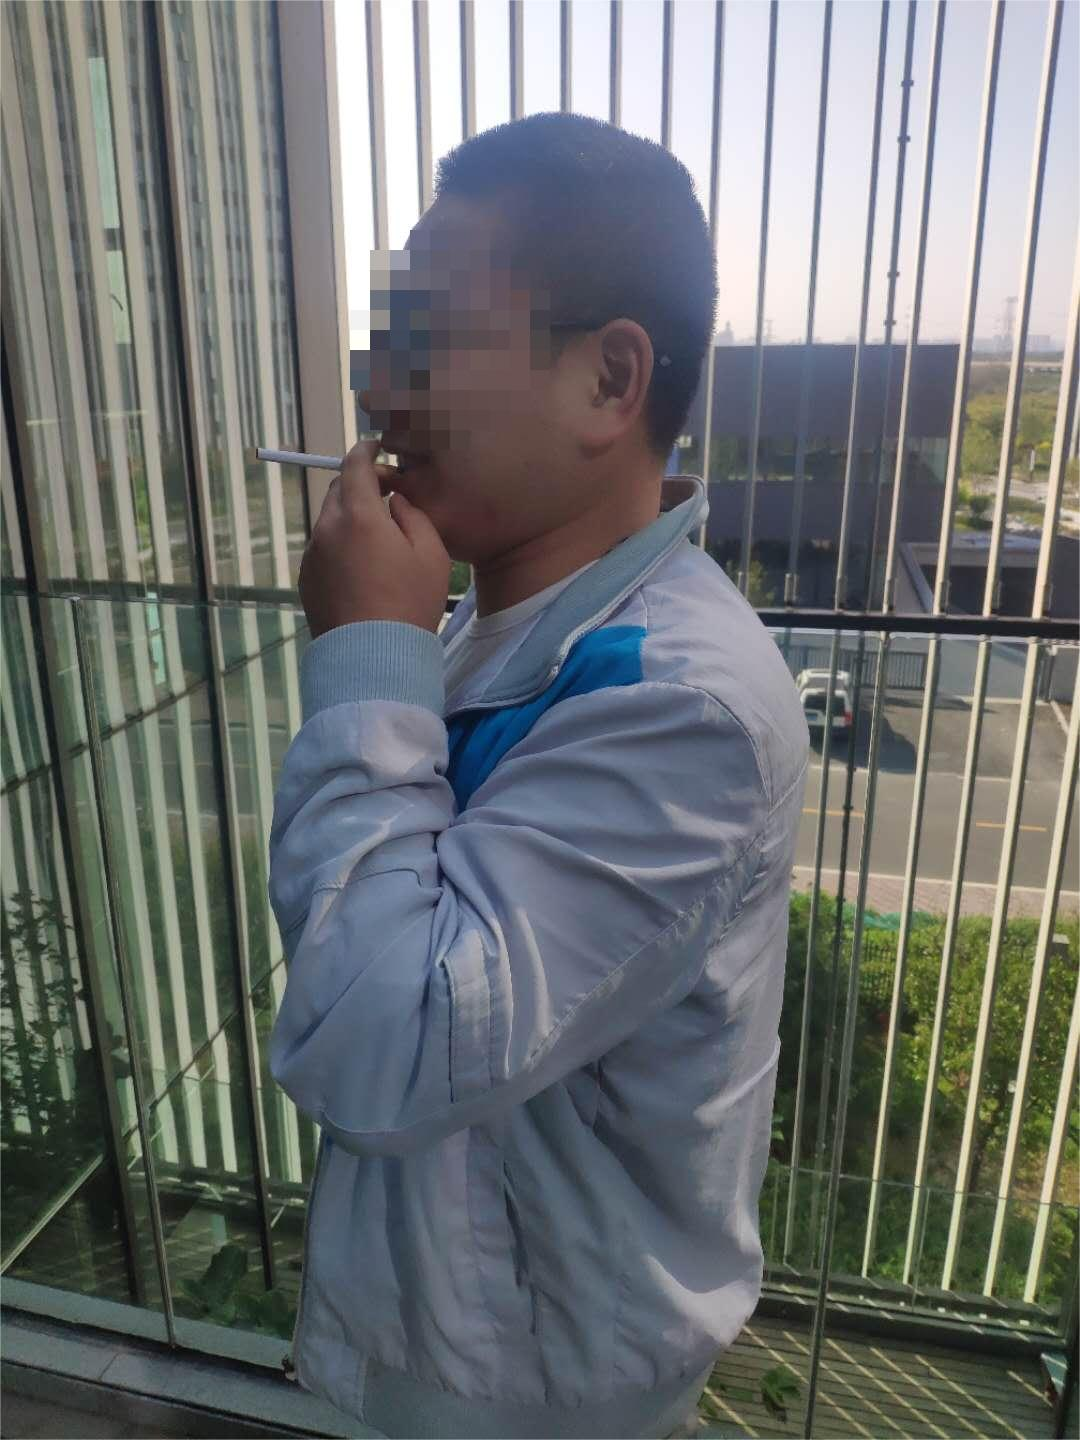smoke: (250, 444, 391, 481)
